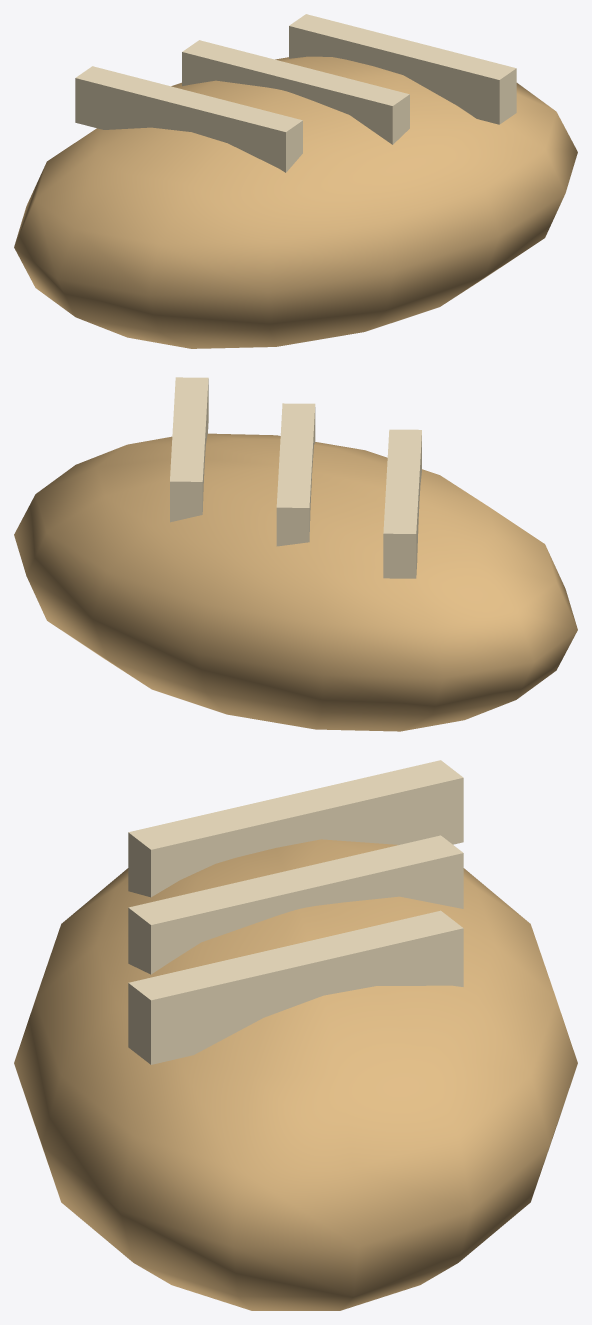
Rendered from pao.glb.
The picture shows the model from 3 angles, top to bottom: view 1: azimuth 30°, elevation 25°; view 2: azimuth 150°, elevation 25°; view 3: azimuth 270°, elevation 25°; orthographic projection. The views are drawn at different scales.
Parts seen in each view (by area): view 1: Cube; view 2: Cube; view 3: Cube.
Boxes of the visible parts, x1,y1,x2,y2 form: Cube: [14, 14, 577, 348]; Cube: [14, 377, 577, 731]; Cube: [14, 760, 577, 1310].
Bounding box in the file's own units: 0.2925 × 0.13 × 0.19.
